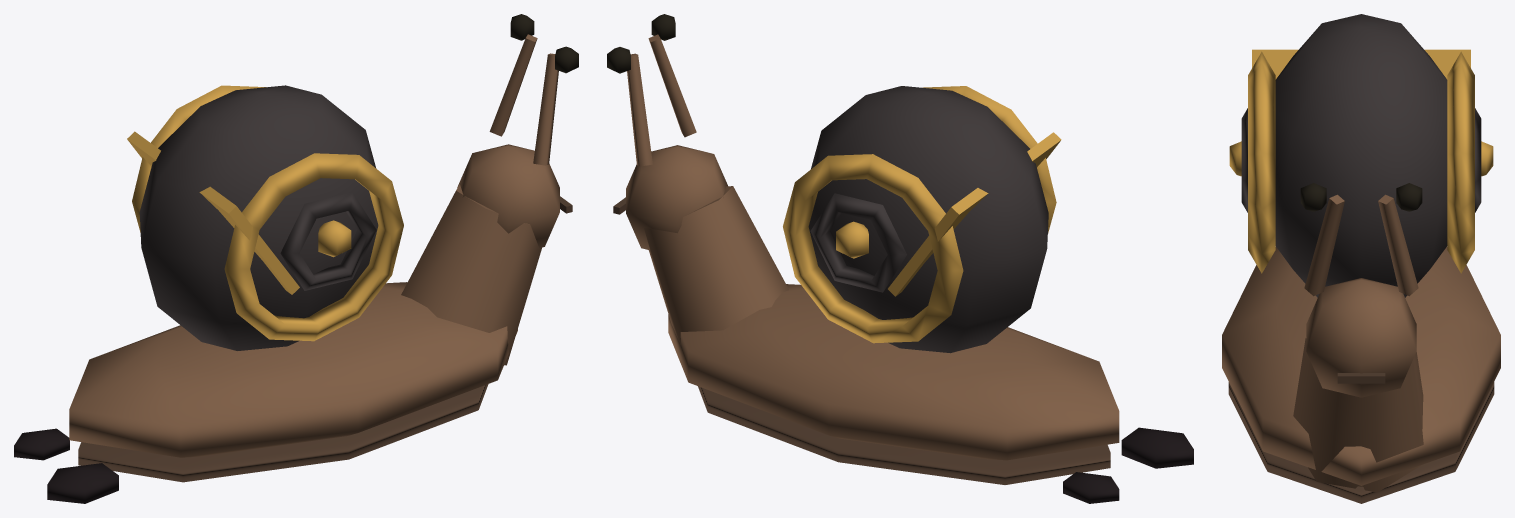
The model's file is enemy_tarSnail.glb.
3 renders of one model, left to right at view 1: azimuth 30°, elevation 25°; view 2: azimuth 150°, elevation 25°; view 3: azimuth 270°, elevation 25°, orthographic. The views are drawn at different scales.
Visible parts, largest first — view 1: foot, shell, neck, shell_coil_r, foot_skirt, head, shell_coil_inner_r, shell_rivet_band, tar_drip_0, shell_coil_l, antenna_r_stalk, tar_drip_1 (+2 smaller); view 2: foot, shell, neck, shell_coil_l, foot_skirt, head, shell_coil_inner_l, shell_rivet_band, tar_drip_0, shell_coil_r, antenna_l_stalk, tar_drip_1 (+2 smaller); view 3: shell, foot, head, neck, shell_coil_l, shell_coil_r, foot_skirt, antenna_l_stalk, antenna_r_stalk, shell_rivet_band, shell_coil_inner_l, shell_coil_inner_r (+5 smaller).
Boxes of the visible parts, <box> form: foot: <box>69,282,517,457</box>; shell: <box>139,85,378,350</box>; neck: <box>401,184,541,365</box>; shell_coil_r: <box>224,153,403,341</box>; foot_skirt: <box>78,384,488,482</box>; head: <box>457,144,559,247</box>; shell_coil_inner_r: <box>280,192,376,290</box>; shell_rivet_band: <box>127,131,299,294</box>; tar_drip_0: <box>47,463,118,503</box>; shell_coil_l: <box>132,85,266,232</box>; antenna_r_stalk: <box>533,53,558,165</box>; tar_drip_1: <box>14,428,69,460</box>; foot: <box>668,284,1119,460</box>; shell: <box>808,86,1048,353</box>; neck: <box>644,186,788,345</box>; shell_coil_l: <box>783,154,963,343</box>; foot_skirt: <box>698,386,1110,484</box>; head: <box>626,145,727,250</box>; shell_coil_inner_l: <box>810,193,906,292</box>; shell_rivet_band: <box>888,132,1061,296</box>; tar_drip_0: <box>1121,427,1193,468</box>; shell_coil_r: <box>923,86,1056,233</box>; antenna_l_stalk: <box>627,53,652,166</box>; tar_drip_1: <box>1063,472,1119,503</box>; shell: <box>1275,14,1447,297</box>; foot: <box>1222,247,1500,485</box>; head: <box>1306,278,1416,397</box>; neck: <box>1293,337,1423,492</box>; shell_coil_l: <box>1447,51,1474,273</box>; shell_coil_r: <box>1248,51,1275,273</box>; foot_skirt: <box>1228,382,1494,503</box>; antenna_l_stalk: <box>1378,194,1418,296</box>; antenna_r_stalk: <box>1304,194,1344,296</box>; shell_rivet_band: <box>1252,49,1470,79</box>; shell_coil_inner_l: <box>1475,108,1481,212</box>; shell_coil_inner_r: <box>1241,108,1247,212</box>.
Bounding box in the file's own units: 0.3368 × 0.201 × 0.1398.
